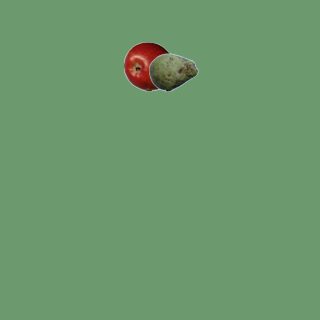Apple Braeburn: (123, 41, 173, 91)
Pear Stone: (148, 47, 198, 97)
